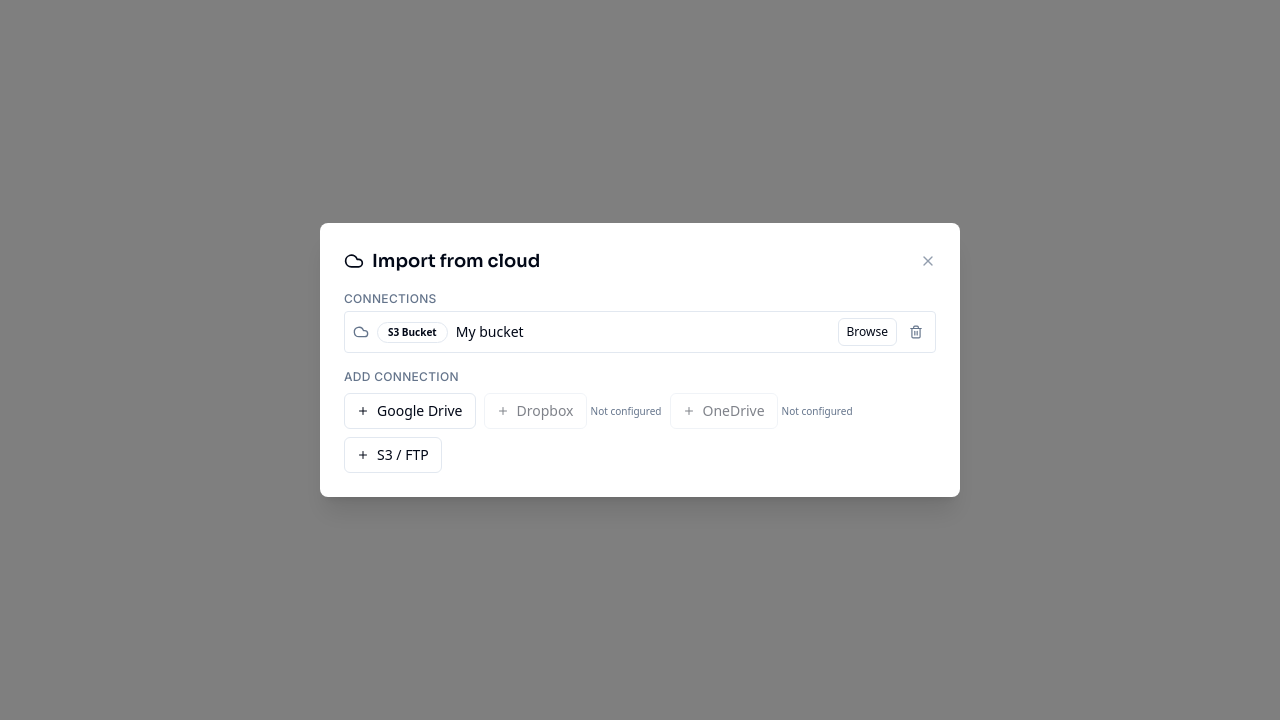
Test: CloudImportDialog (Phase D8) — browser step › browses a connection: renders folders and files with sizes
Step 1. Click the button "Browse" → (867, 332), box [838,318,897,346]
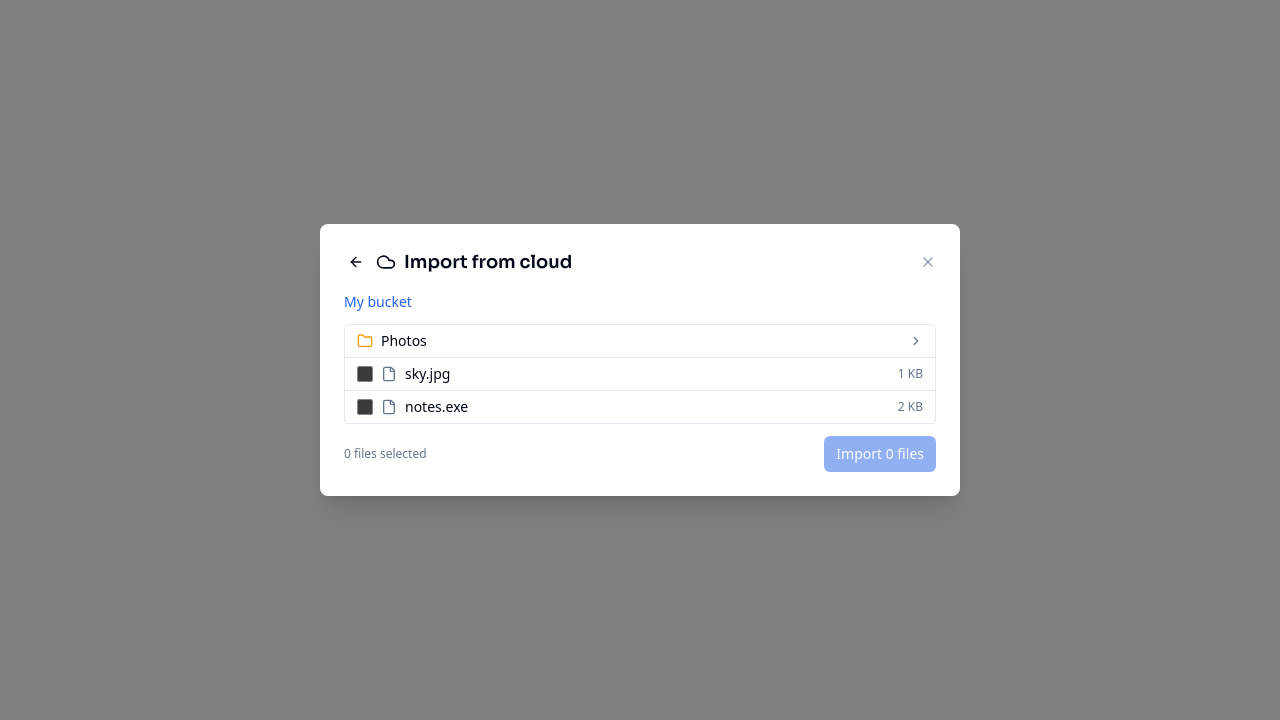
Now the text "sky.jpg" is shown, box [405,364,450,383]
Now the text "Photos" is shown, box [381,331,427,350]
Now the text "notes.exe" is shown, box [405,397,468,416]
